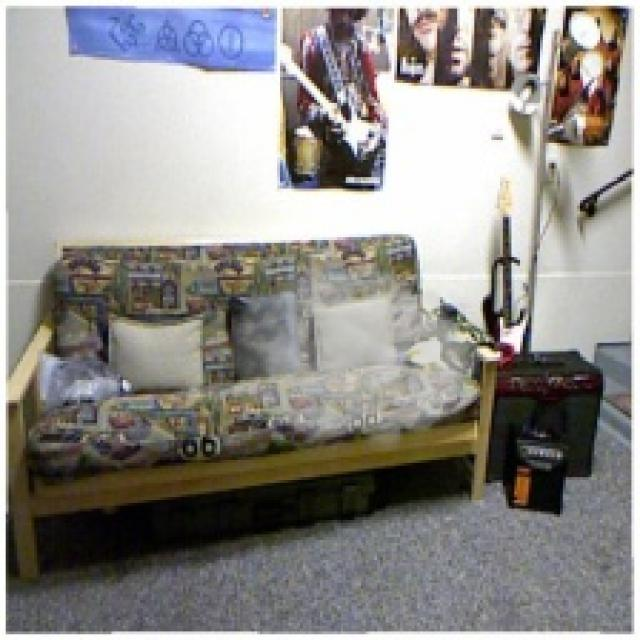smoke: (231, 252, 480, 454)
